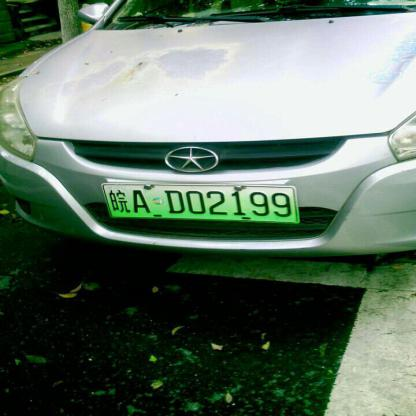lp: (103, 185, 297, 222)
